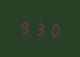nine: (18, 18, 31, 36)
three: (33, 19, 46, 37)
zero: (47, 20, 60, 38)
